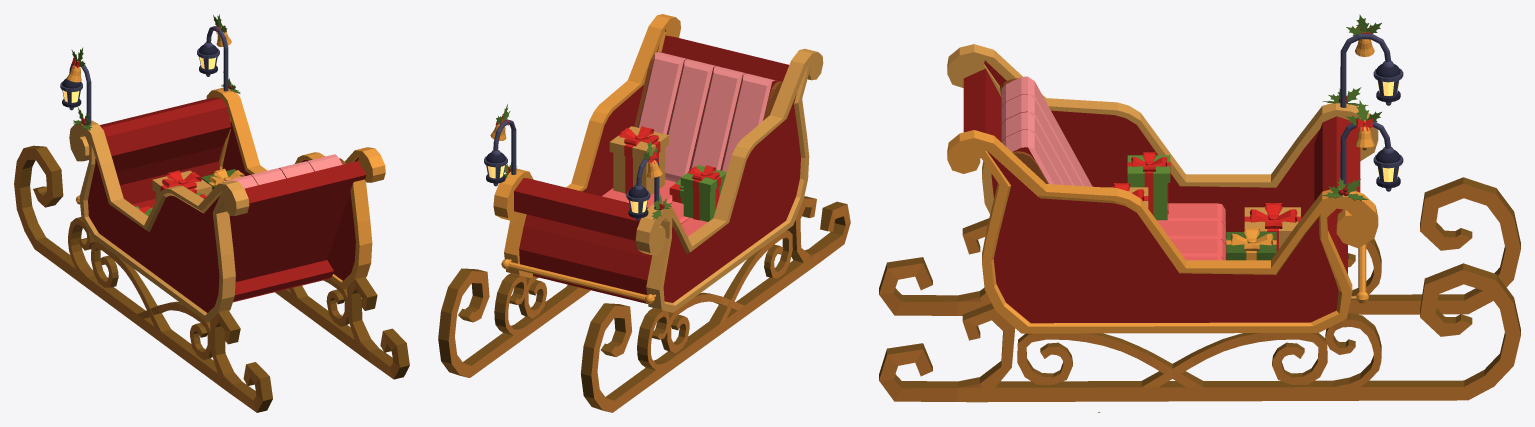
The model's file is asset.gltf.
The picture shows the model from 3 angles, left to right: view 1: azimuth 30°, elevation 25°; view 2: azimuth 150°, elevation 25°; view 3: azimuth 270°, elevation 25°; orthographic projection. The views are drawn at different scales.
Parts seen in each view (by area): view 1: Plane.037, Plane.010, Cube.065, Plane.008, Plane.006, Plane.009, Cube.067, Plane.023, Plane.026, Plane.025; view 2: Plane.037, Plane.010, Cube.067, Plane.008, Plane.006, Plane.009, Cube.065, Cube.071, Cube.073, Cube.069, Cylinder.052, Plane.026 (+1 smaller); view 3: Plane.006, Plane.009, Plane.037, Plane.010, Cube.067, Plane.008, Cube.069, Cube.065, Plane.023, Plane.025, Cube.073, Plane.038 (+1 smaller).
Part boxes in pixels (<box>): Plane.037: <box>69,120,249,322</box>; Plane.010: <box>14,145,272,412</box>; Cube.065: <box>229,161,366,302</box>; Plane.008: <box>100,97,230,208</box>; Plane.006: <box>206,87,385,289</box>; Plane.009: <box>275,276,409,379</box>; Cube.067: <box>222,154,342,188</box>; Plane.023: <box>152,170,211,200</box>; Plane.026: <box>206,26,228,91</box>; Plane.025: <box>201,168,244,190</box>; Plane.037: <box>635,48,823,312</box>; Plane.010: <box>580,196,850,412</box>; Cube.067: <box>637,52,778,182</box>; Plane.008: <box>514,178,652,294</box>; Plane.006: <box>493,14,680,278</box>; Plane.009: <box>438,268,590,377</box>; Cube.065: <box>533,35,789,303</box>; Cube.071: <box>609,126,668,195</box>; Cube.073: <box>680,165,726,221</box>; Cube.069: <box>602,179,707,236</box>; Cylinder.052: <box>508,262,646,300</box>; Plane.026: <box>493,119,516,174</box>; Plane.006: <box>947,130,1378,333</box>; Plane.009: <box>879,263,1520,402</box>; Plane.037: <box>947,44,1378,241</box>; Plane.010: <box>879,177,1520,315</box>; Cube.067: <box>1001,76,1092,186</box>; Plane.008: <box>1314,116,1360,274</box>; Cube.069: <box>1157,203,1225,260</box>; Cube.065: <box>963,68,1226,259</box>; Plane.023: <box>1244,203,1301,251</box>; Plane.025: <box>1226,228,1276,260</box>; Cube.073: <box>1127,155,1170,220</box>; Plane.038: <box>1340,33,1391,107</box>.
Bounding box in the file's own units: 6.3 × 8.15 × 15.82.
